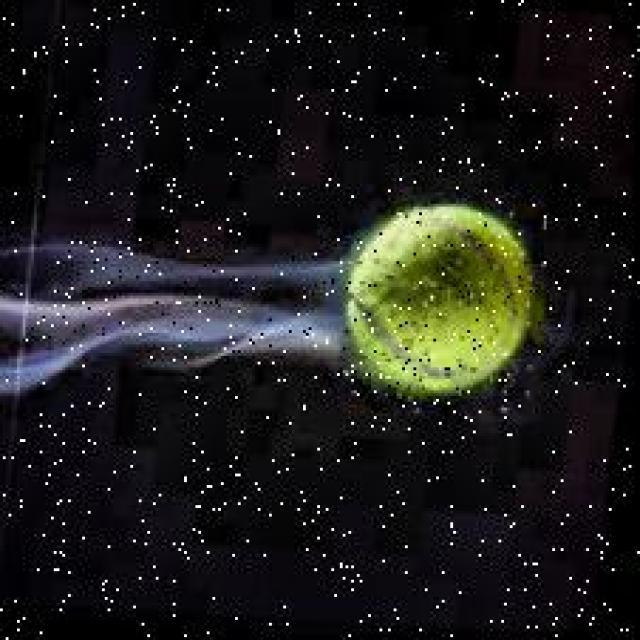tennis-ball: (338, 195, 556, 425)
